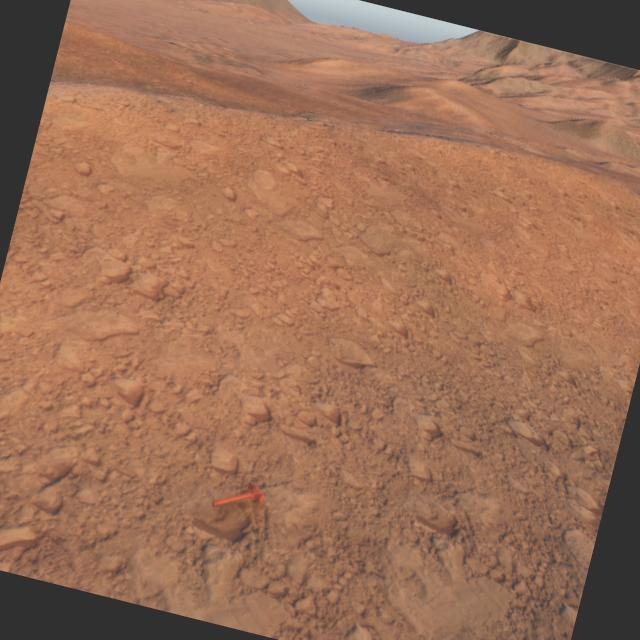newhammer: (210, 474, 266, 518)
